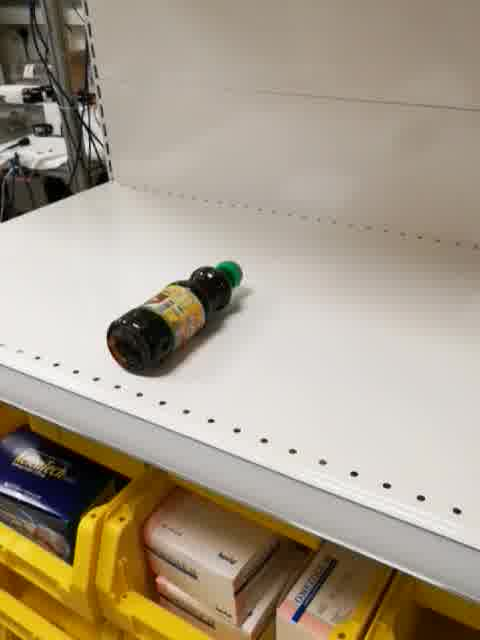cookingoil: (105, 257, 243, 377)
